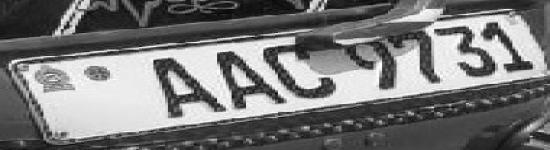1: (477, 22, 535, 72)
3: (427, 26, 497, 78)
7: (386, 33, 441, 84)
9: (346, 40, 396, 92)
A: (146, 57, 226, 120), (215, 50, 287, 109)
C: (262, 44, 338, 99)
